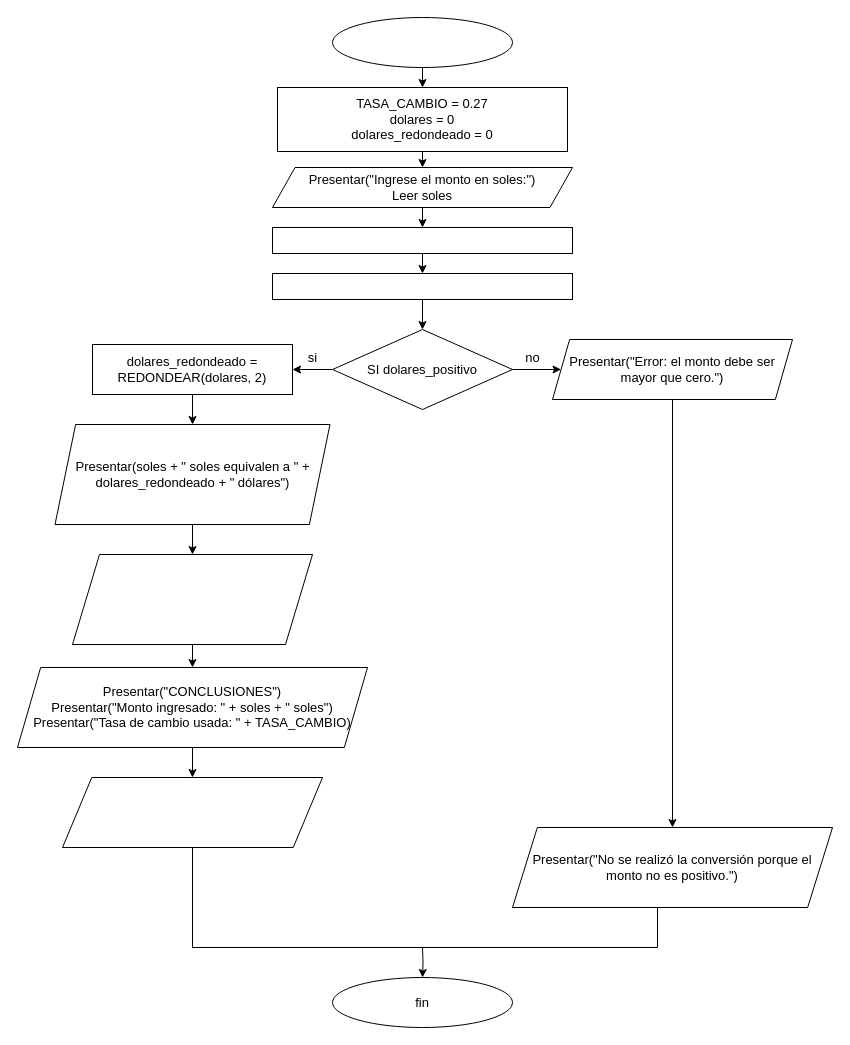
This 850x1045 diagram has some shape labels left out. Here are the shapes that lost their labels. From the top down, the box of each, then its label:
(332, 16, 512, 68): inicio
(272, 226, 572, 254): dolares = soles * TASA_CAMBIO
(272, 272, 572, 300): dolares_positivo = (dolares > 0)
(72, 554, 312, 644): Presentar("Valor exacto antes de redondear: " + dolares + " dólares")
(62, 776, 322, 848): Presentar("Conversión realizada: " + dolares_redondeado + " dólares")
